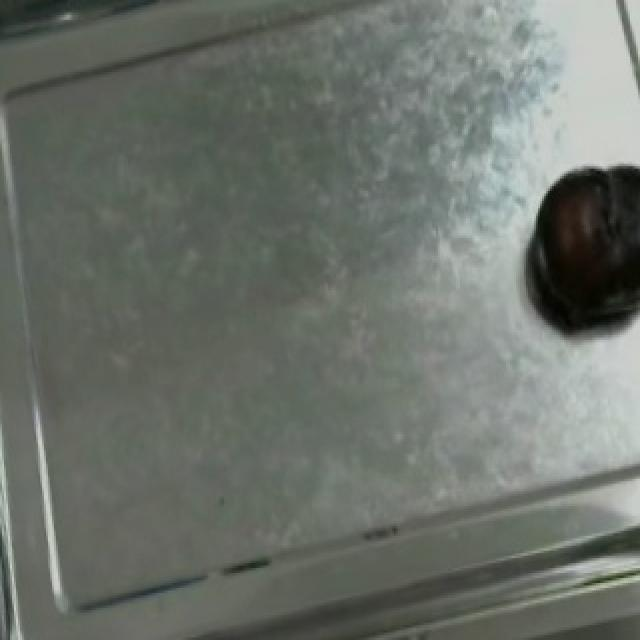Fruit: (518, 152, 640, 338)
